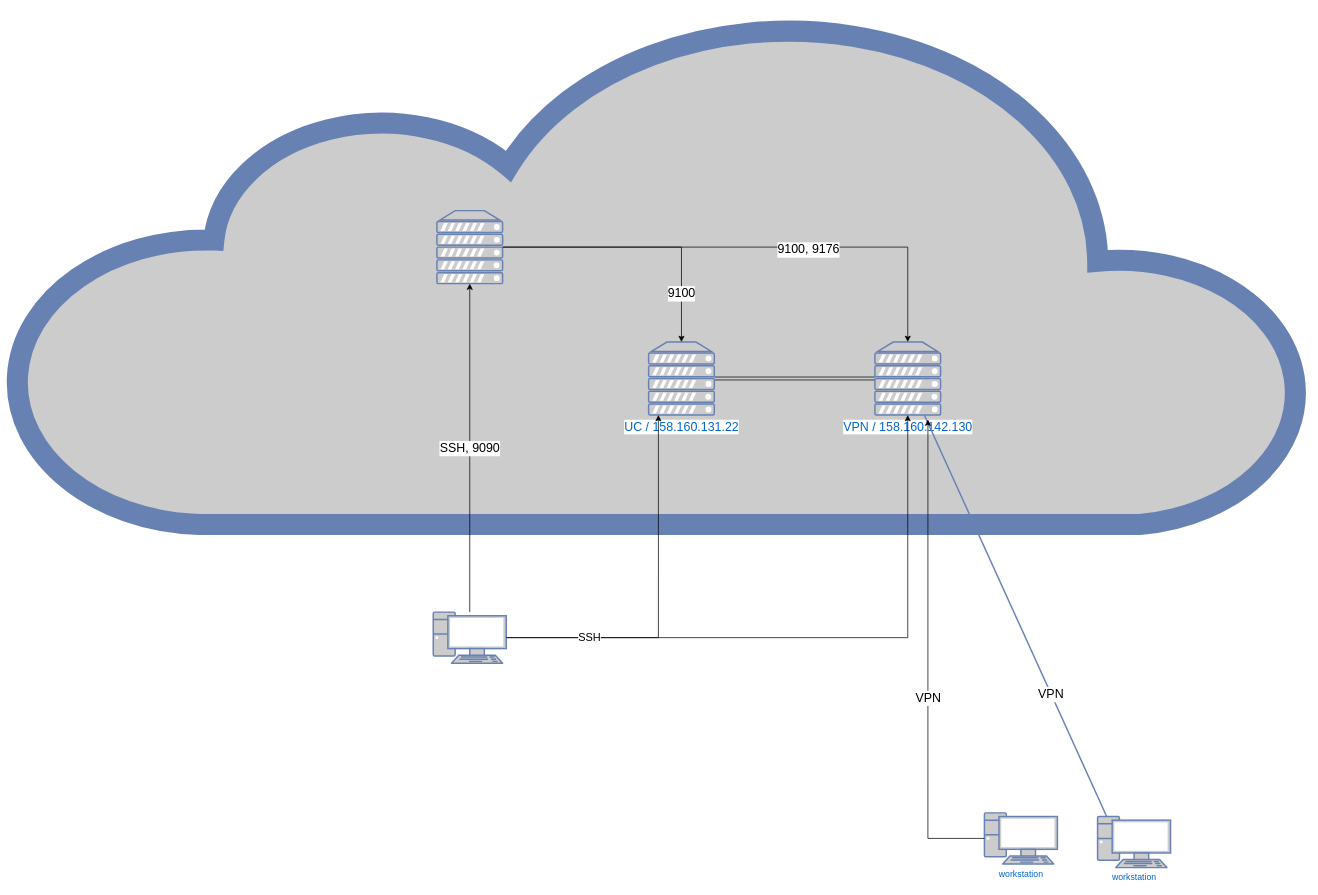
Image size: 1318x895. Some labels were removed from this diagram. The shapes that lost their labels are listed below. From the top down, each one's centre as x and y in pixels, then its label:
At point (469, 247): "Prom / 158.160.143.9".
At point (469, 637): "Admin".
